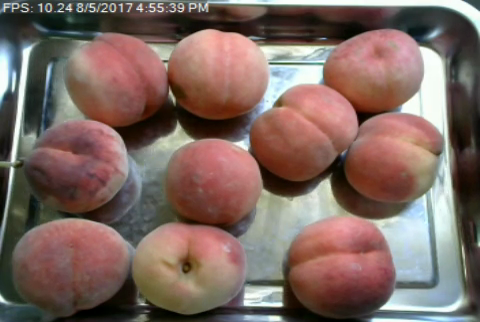Peach: (283, 213, 396, 319), (9, 217, 128, 316), (249, 82, 358, 182), (134, 221, 246, 316), (24, 117, 128, 213), (62, 32, 167, 127), (341, 112, 442, 206), (168, 26, 269, 120), (322, 25, 424, 114), (163, 137, 261, 226)
